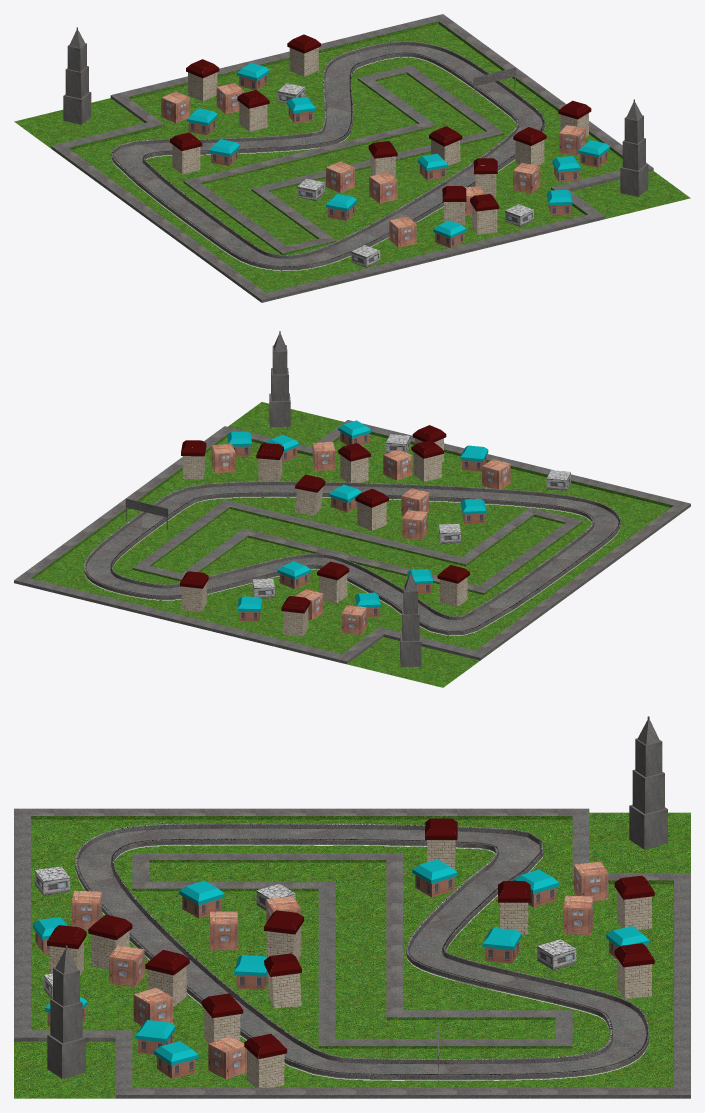
Rendered from pista_4.0.fbx.
3 views of the same model, one above another, from view 1: azimuth 30°, elevation 25°; view 2: azimuth 150°, elevation 25°; view 3: azimuth 270°, elevation 25° (orthographic). The views are drawn at different scales.
Visible parts, largest first — view 1: Pista4, polySurface1, polySurface2, polySurface3, pasted__pasted__pCube33 (×3), pCube40, pCube39, pasted__pasted__pCube27 (×2), pasted__pasted__pasted__pasted__pasted__pasted__pasted__past (×2), pasted__pasted__pasted__pasted__pasted__pasted__pasted__pCub (×2), pasted__pasted__pasted__pCube27 (×2), pasted__pasted__pasted__pCube33 (×2) (+18 smaller); view 2: Pista4, polySurface1, polySurface2, polySurface3, pasted__pasted__pCube33 (×3), pasted__pasted__pasted__pCube27 (×2), pasted__pasted__pasted__pasted__pasted__pasted__pasted__pCub (×2), pCube39, pCube40, pasted__pasted__pasted__pasted__pasted__pasted__pasted__past (×2), pasted__pasted__pasted__pCube33 (×2), pasted__pasted__pCube32 (×2) (+10 smaller); view 3: Pista4, polySurface1, polySurface3, polySurface2, pCube40, pCube39, pasted__pasted__pasted__pCube27 (×2), pasted__pasted__pCube33 (×3), pasted__pasted__pasted__pasted__pasted__pasted__pasted__pCub (×2), pasted__pasted__pCube27 (×2), pasted__pasted__pasted__pCube33 (×2), pasted__pasted__pasted__pasted__pasted__pasted__pasted__past (×2) (+16 smaller).
Boxes of the visible parts, left/top/right/bottom form: Pista4: left=14, top=14, right=690, bottom=302; polySurface1: left=111, top=45, right=544, bottom=270; polySurface2: left=111, top=41, right=545, bottom=269; polySurface3: left=142, top=52, right=519, bottom=258; pasted__pasted__pCube33 (×3): left=216, top=83, right=397, bottom=203; pCube40: left=63, top=27, right=91, bottom=124; pCube39: left=620, top=99, right=648, bottom=196; pasted__pasted__pCube27 (×2): left=470, top=127, right=546, bottom=234; pasted__pasted__pasted__pasted__pasted__pasted__pasted__past (×2): left=186, top=59, right=269, bottom=101; pasted__pasted__pasted__pasted__pasted__pasted__pasted__pCub (×2): left=286, top=34, right=320, bottom=123; pasted__pasted__pasted__pCube27 (×2): left=429, top=100, right=591, bottom=165; pasted__pasted__pasted__pCube33 (×2): left=161, top=91, right=585, bottom=155; Pista4: left=14, top=402, right=690, bottom=687; polySurface1: left=84, top=485, right=620, bottom=635; polySurface2: left=84, top=481, right=620, bottom=634; polySurface3: left=110, top=492, right=594, bottom=620; pasted__pasted__pCube33 (×3): left=383, top=449, right=429, bottom=539; pasted__pasted__pasted__pCube27 (×2): left=181, top=440, right=325, bottom=515; pasted__pasted__pasted__pasted__pasted__pasted__pasted__pCub (×2): left=180, top=561, right=310, bottom=611; pCube39: left=269, top=331, right=290, bottom=427; pCube40: left=400, top=571, right=421, bottom=667; pasted__pasted__pasted__pasted__pasted__pasted__pasted__past (×2): left=237, top=596, right=310, bottom=636; pasted__pasted__pasted__pCube33 (×2): left=211, top=444, right=366, bottom=635; pasted__pasted__pCube32 (×2): left=338, top=420, right=488, bottom=471; Pista4: left=14, top=808, right=690, bottom=1098; polySurface1: left=75, top=828, right=649, bottom=1080; polySurface3: left=111, top=838, right=612, bottom=1064; polySurface2: left=75, top=823, right=649, bottom=1079; pCube40: left=629, top=716, right=667, bottom=849; pCube39: left=47, top=945, right=85, bottom=1078; pasted__pasted__pasted__pCube27 (×2): left=244, top=953, right=302, bottom=1087; pasted__pasted__pCube33 (×3): left=109, top=895, right=593, bottom=987; pasted__pasted__pasted__pasted__pasted__pasted__pasted__pCub (×2): left=482, top=928, right=654, bottom=999; pasted__pasted__pCube27 (×2): left=47, top=925, right=243, bottom=1043; pasted__pasted__pasted__pCube33 (×2): left=208, top=861, right=608, bottom=1079; pasted__pasted__pasted__pasted__pasted__pasted__pasted__past (×2): left=606, top=875, right=654, bottom=959.
Size of the model in its own units: 24.11 by 5.12 by 24.11.
Materials: 57 (35 with a texture image).
